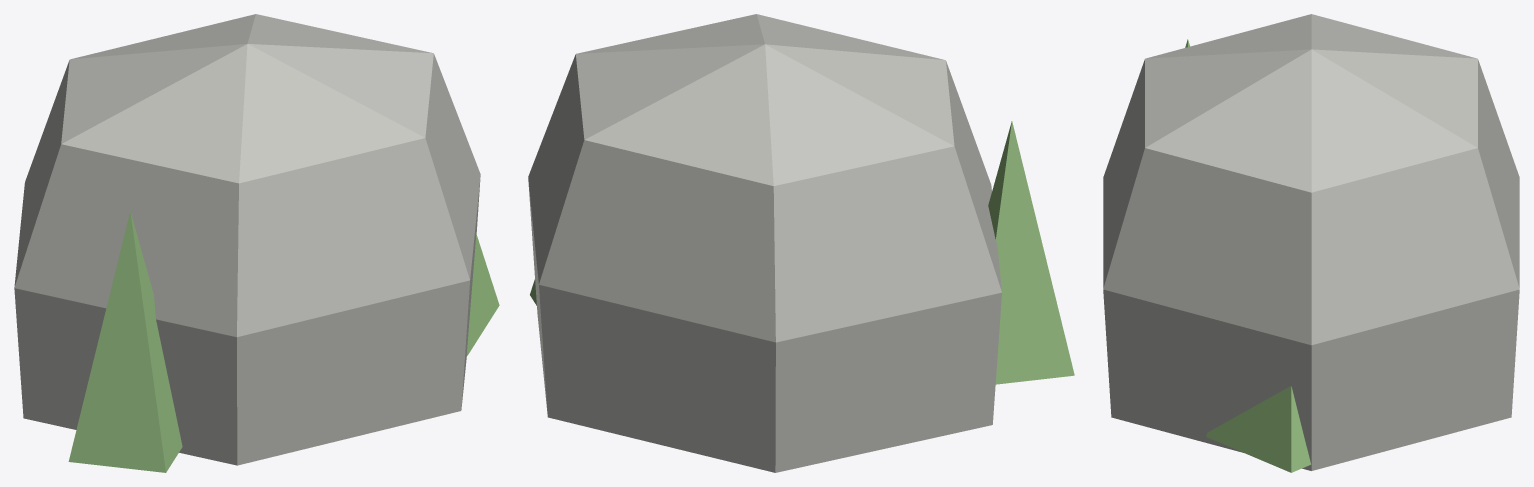
Rendered from town_boulder_small.glb.
3 renders of one model, left to right at view 1: azimuth 30°, elevation 25°; view 2: azimuth 150°, elevation 25°; view 3: azimuth 270°, elevation 25°, orthographic. The views are drawn at different scales.
Parts seen in each view (by area): view 1: world; view 2: world; view 3: world.
Part boxes in pixels (x1,y1,x2,y2): world: (14,14,499,472); world: (528,14,1074,472); world: (1103,14,1519,472).
Bounding box in the file's own units: 2 × 1.48 × 1.52.
